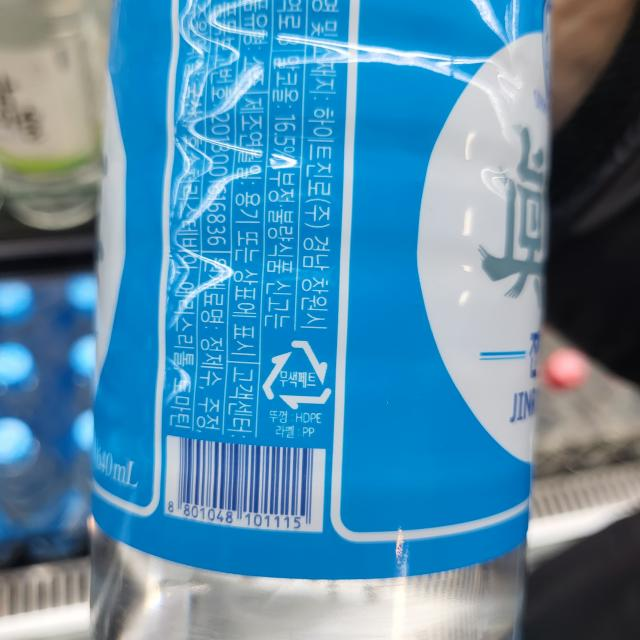ColorlessPET: (259, 335, 339, 410)
